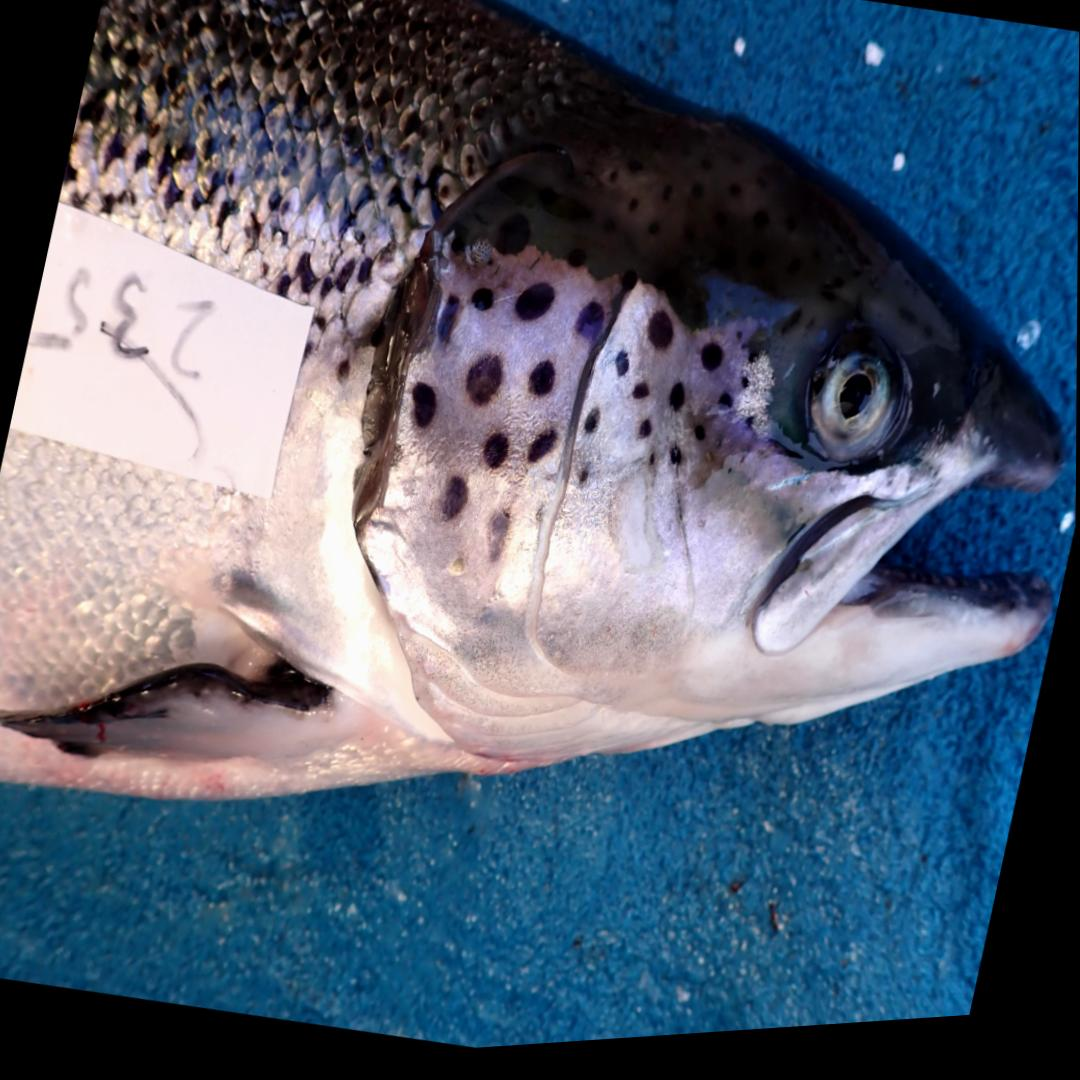spot: (465, 361, 503, 414), (513, 289, 555, 329), (574, 307, 606, 349), (435, 299, 461, 349), (487, 518, 511, 570), (441, 481, 468, 527), (411, 387, 437, 434), (647, 318, 673, 357), (528, 367, 556, 403), (527, 437, 557, 470), (482, 440, 509, 476), (700, 352, 724, 380), (470, 293, 494, 317), (668, 392, 685, 421), (615, 359, 630, 386), (584, 417, 599, 441), (637, 426, 652, 448), (532, 513, 546, 536), (632, 392, 649, 407), (692, 434, 706, 452), (718, 402, 733, 418), (669, 454, 681, 472), (578, 475, 589, 493), (745, 423, 755, 439), (646, 459, 656, 474), (747, 362, 759, 374), (742, 386, 750, 398)
